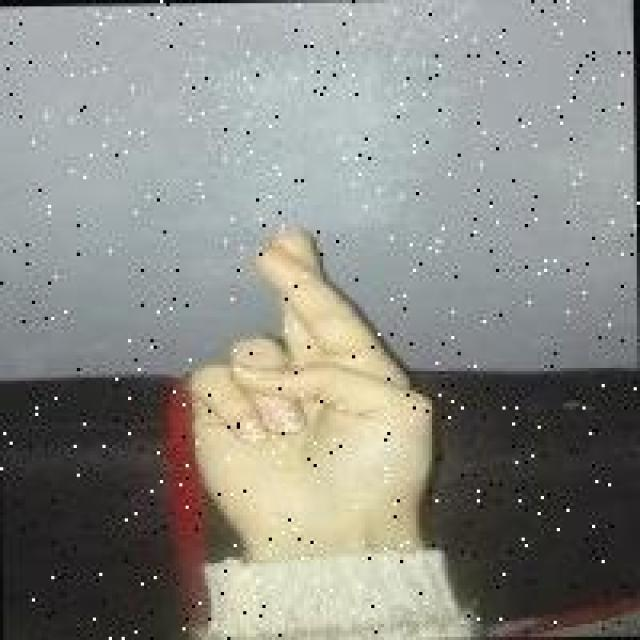R: (181, 221, 446, 534)
